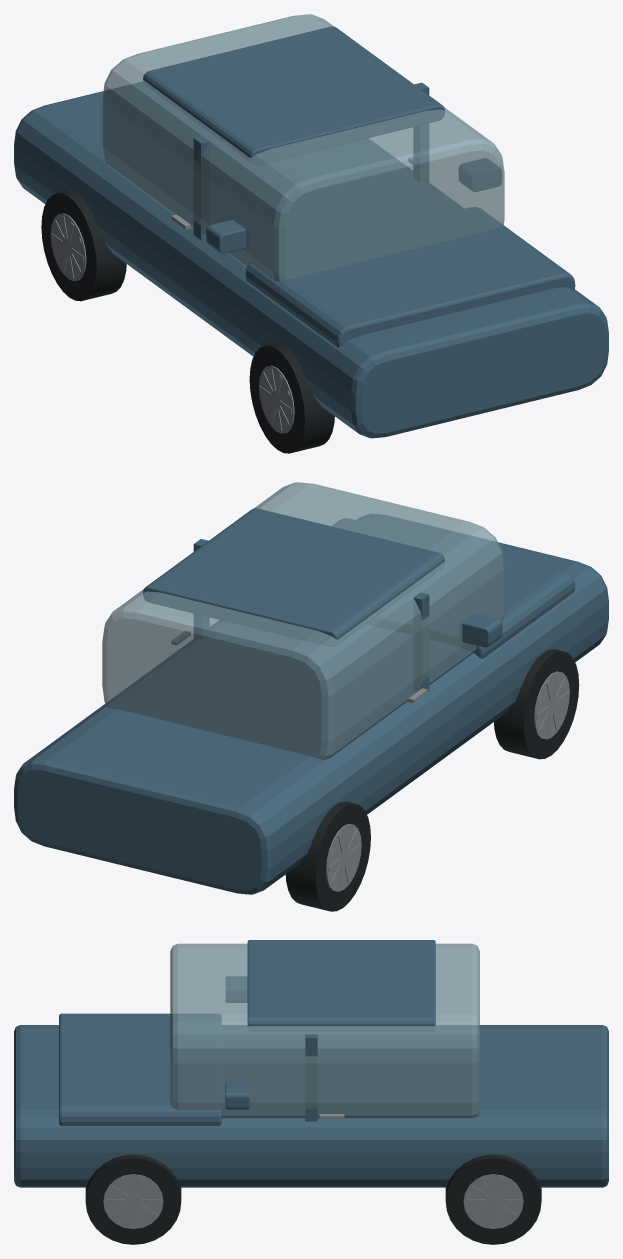
Rendered from vehicle-sedan.glb.
The picture shows the model from 3 angles, top to bottom: view 1: azimuth 30°, elevation 25°; view 2: azimuth 150°, elevation 25°; view 3: azimuth 270°, elevation 25°; orthographic projection. The views are drawn at different scales.
Parts seen in each view (by area): view 1: body, cabin, hood, roof, wheel_-0.89_-1.33, wheel_-0.89_1.3, pillar (×2), mirror (×2); view 2: body, cabin, roof, hood, wheel_-0.89_1.3, wheel_-0.89_-1.33, pillar, mirror; view 3: body, cabin, hood, roof, wheel_0.89_-1.33, wheel_0.89_1.3, mirror (×2), pillar.
Boxes of the visible parts, x1,y1,x2,y2 form: body: [14, 82, 608, 438]; cabin: [102, 14, 504, 280]; hood: [245, 207, 575, 347]; roof: [143, 26, 444, 164]; wheel_-0.89_-1.33: [41, 191, 126, 301]; wheel_-0.89_1.3: [249, 343, 334, 453]; pillar (×2): [193, 82, 429, 239]; mirror (×2): [206, 158, 501, 253]; body: [14, 514, 608, 894]; cabin: [102, 482, 504, 759]; roof: [143, 508, 444, 646]; hood: [332, 518, 575, 658]; wheel_-0.89_1.3: [494, 649, 579, 759]; wheel_-0.89_-1.33: [285, 801, 370, 911]; pillar: [413, 592, 429, 691]; mirror: [459, 613, 502, 647]; body: [14, 1025, 608, 1187]; cabin: [170, 943, 479, 1118]; hood: [59, 1013, 221, 1125]; roof: [247, 940, 435, 1031]; wheel_0.89_-1.33: [445, 1154, 541, 1244]; wheel_0.89_1.3: [85, 1154, 181, 1244]; mirror (×2): [225, 976, 249, 1109]; pillar: [305, 1034, 317, 1121].
Size of the model in its own units: 2.06 by 1.68 by 4.35.
